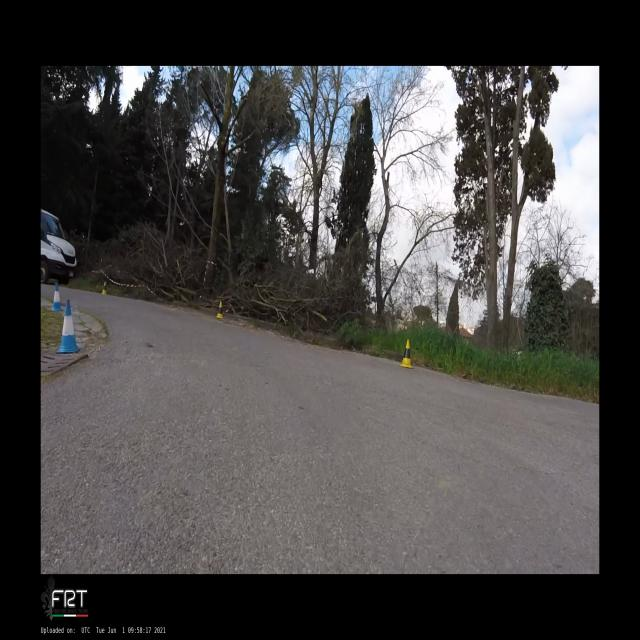blue_cone: (55, 300, 81, 353), (50, 284, 64, 312)
yellow_cone: (399, 339, 414, 368), (216, 301, 223, 319), (102, 282, 107, 294)
